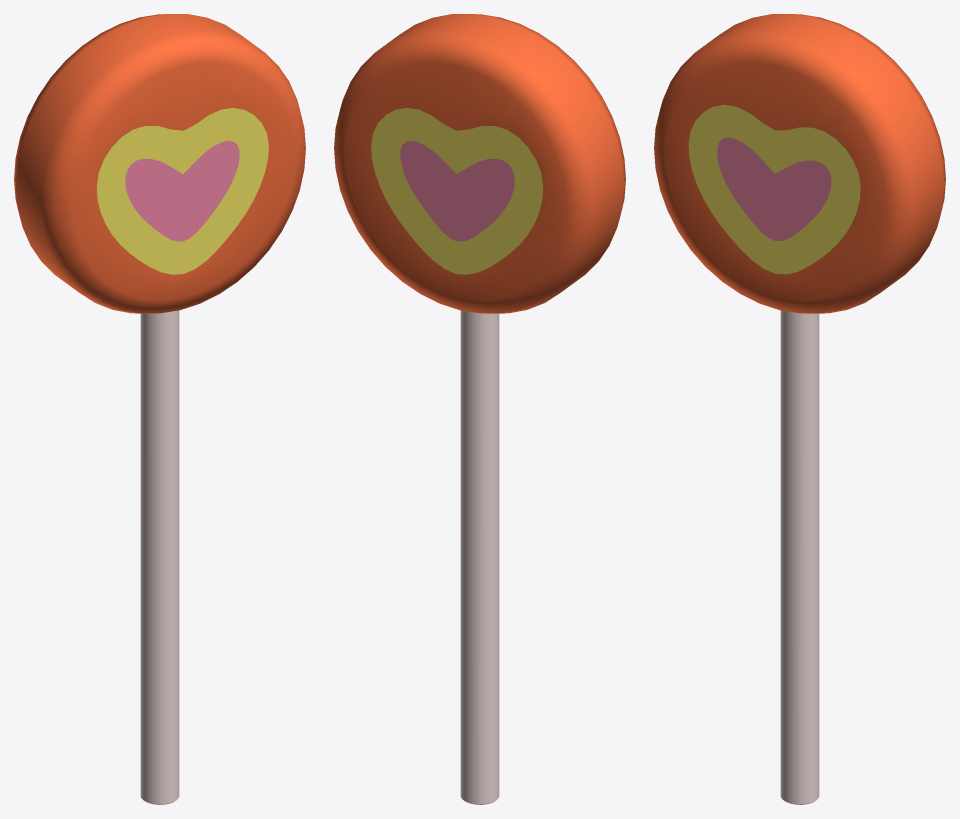
Rendered from Store_8_Candy_8.glb.
3 views of the same model, side by side, from view 1: azimuth 30°, elevation 25°; view 2: azimuth 150°, elevation 25°; view 3: azimuth 330°, elevation 25° (orthographic).
Visible parts, largest first — view 1: Store_8_Candy_8; view 2: Store_8_Candy_8; view 3: Store_8_Candy_8.
Boxes of the visible parts, bbox=[...] form: Store_8_Candy_8: bbox=[14, 14, 305, 804]; Store_8_Candy_8: bbox=[334, 14, 625, 804]; Store_8_Candy_8: bbox=[654, 14, 945, 804].
Size of the model in its own units: 0.5994 by 1.68 by 0.1903.
Materials: 1 (1 with a texture image).
